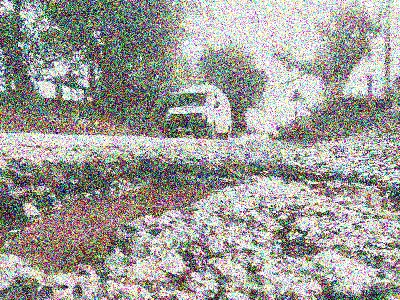pothole: (1, 155, 400, 283)
